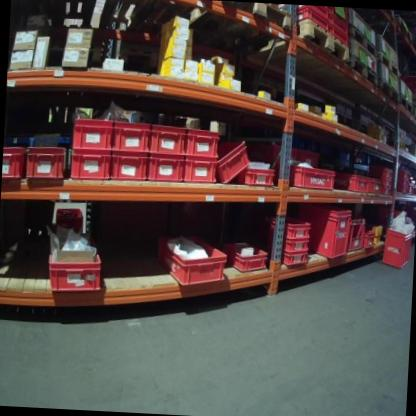pallet: (246, 15, 354, 85), (163, 0, 294, 55), (346, 53, 379, 93), (348, 26, 379, 60), (376, 52, 402, 78), (378, 81, 399, 107), (396, 93, 413, 120), (413, 108, 416, 128)
small_load_carrier: (156, 233, 230, 289), (44, 234, 107, 296), (291, 203, 351, 259), (216, 131, 253, 189), (220, 236, 273, 275), (24, 143, 69, 182), (284, 160, 337, 192), (68, 148, 114, 184), (68, 117, 114, 151), (111, 120, 151, 156), (381, 226, 413, 269), (109, 151, 150, 184), (145, 153, 186, 186), (184, 127, 222, 161), (149, 123, 188, 155), (268, 213, 311, 238), (182, 156, 218, 185), (2, 142, 26, 182), (334, 170, 368, 197), (293, 10, 331, 34), (346, 213, 368, 253), (266, 247, 309, 267), (267, 236, 310, 255), (237, 167, 275, 188), (294, 5, 331, 20), (330, 7, 350, 28), (328, 17, 349, 36), (365, 164, 394, 177), (332, 29, 350, 46), (368, 175, 380, 197), (364, 228, 375, 249), (374, 184, 390, 198), (375, 176, 393, 186), (395, 165, 409, 177), (394, 184, 407, 195), (394, 176, 409, 184)
